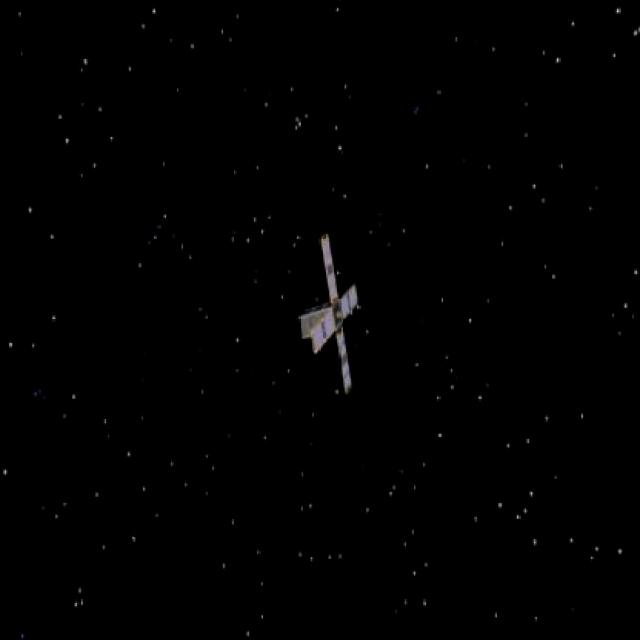medium_debris: (282, 230, 386, 394)
